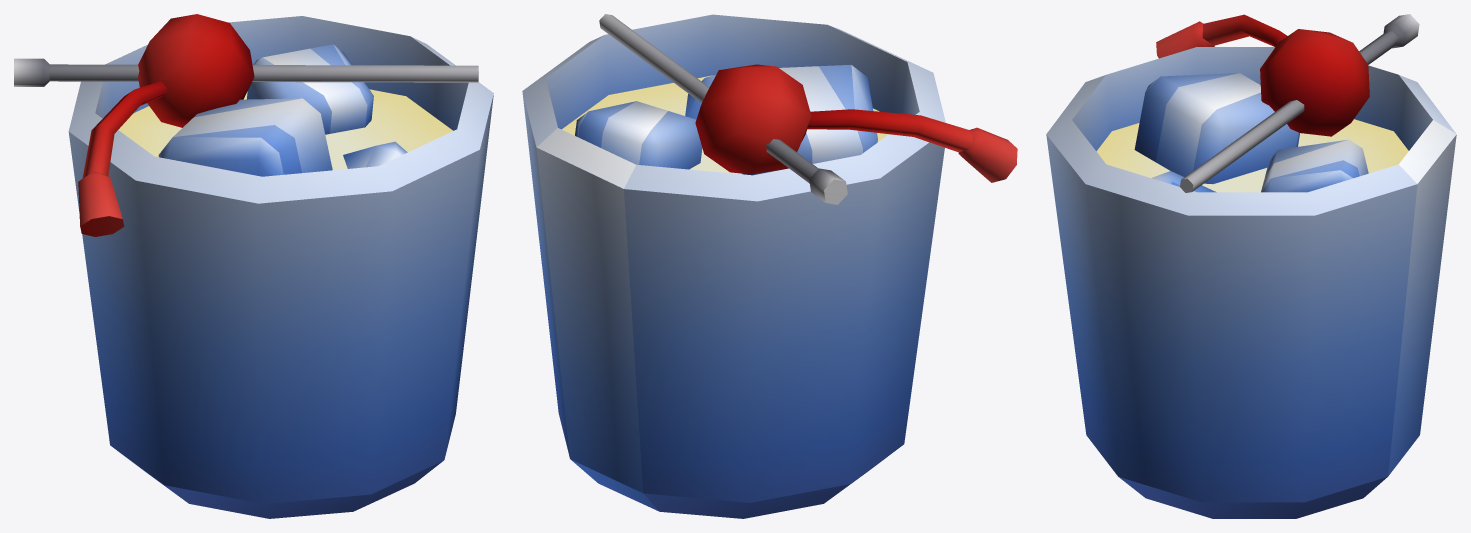
The model's file is m_WhiteRussian01.fbx.
The picture shows the model from 3 angles, left to right: view 1: azimuth 30°, elevation 25°; view 2: azimuth 150°, elevation 25°; view 3: azimuth 270°, elevation 25°; orthographic projection. The views are drawn at different scales.
Visible parts, largest first — view 1: m_WhiteRussian01; view 2: m_WhiteRussian01; view 3: m_WhiteRussian01.
Part boxes in pixels (x1,y1,x2,y2): m_WhiteRussian01: (14,14,493,518); m_WhiteRussian01: (522,14,1017,518); m_WhiteRussian01: (1046,14,1456,518).
Bounding box in the file's own units: 14.5 × 14.18 × 12.98.
